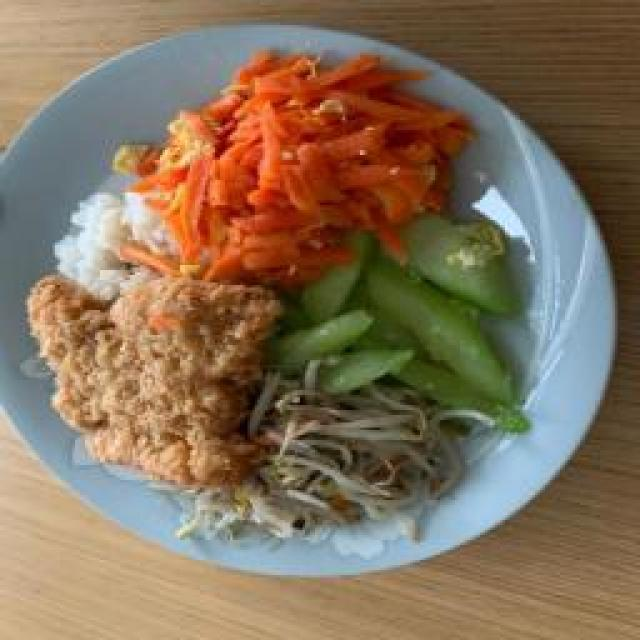Wet Waste: (145, 65, 435, 277), (28, 278, 280, 480), (180, 382, 462, 542), (55, 192, 185, 300)
